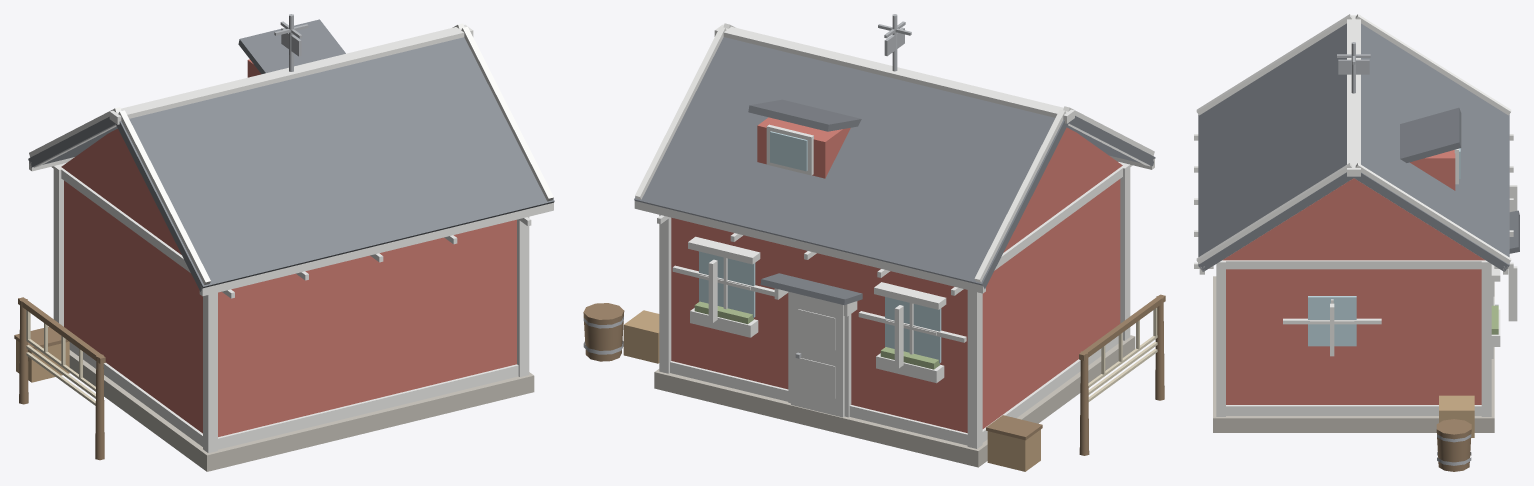
File: house_fishing.glb
The picture shows the model from 3 angles, left to right: view 1: azimuth 30°, elevation 25°; view 2: azimuth 150°, elevation 25°; view 3: azimuth 270°, elevation 25°; orthographic projection. The views are drawn at different scales.
Parts seen in each view (by area): view 1: house_fishing; view 2: house_fishing; view 3: house_fishing.
Part boxes in pixels (x1,y1,x2,y2): house_fishing: [14, 14, 554, 471]; house_fishing: [583, 14, 1165, 471]; house_fishing: [1194, 14, 1519, 471].
Size of the model in its own units: 9.28 by 6.5 by 6.01.
